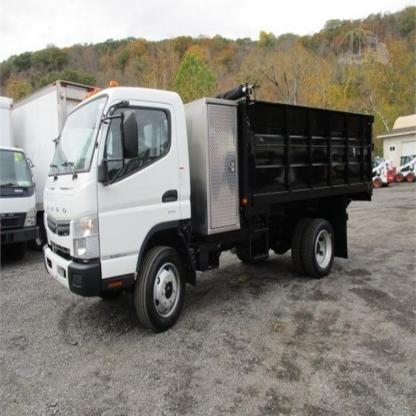truck: (42, 78, 374, 330)
